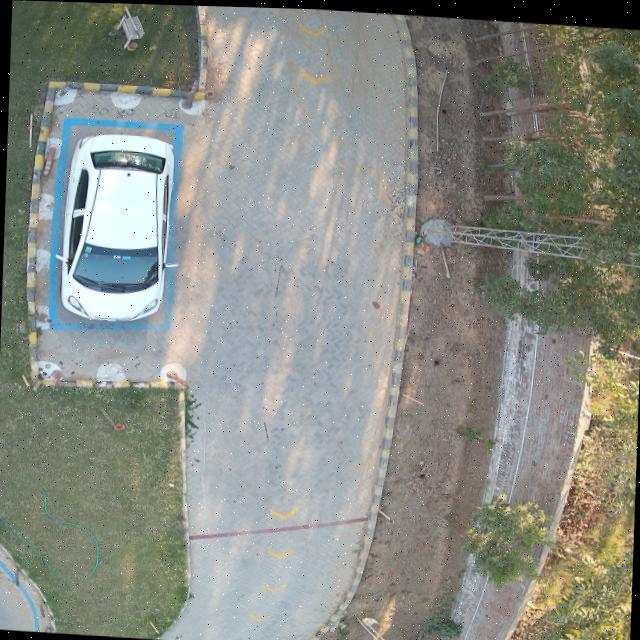car: (56, 129, 178, 323)
